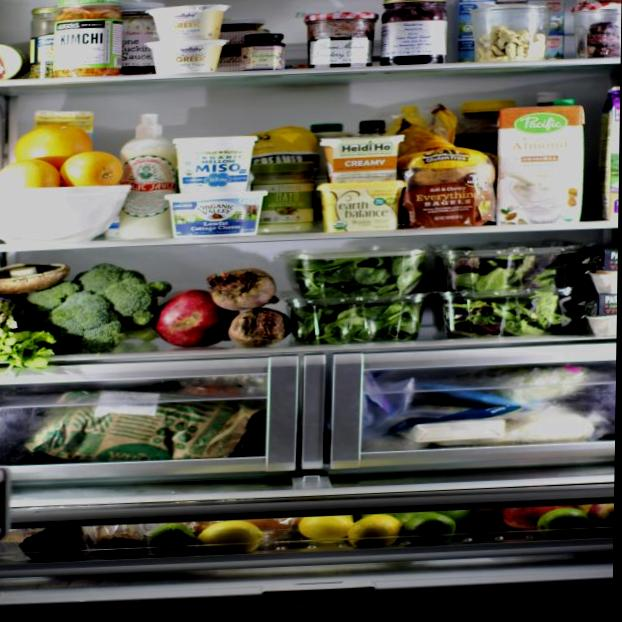apple: (157, 288, 230, 346), (536, 507, 591, 538), (402, 515, 457, 542)
bread: (403, 137, 497, 228)
broccoli: (51, 267, 162, 351)
lemon: (14, 122, 95, 161), (198, 520, 264, 552), (63, 152, 124, 184), (0, 159, 63, 189), (352, 514, 402, 546), (297, 514, 351, 542)
milk: (497, 100, 586, 224)
mushroom: (0, 262, 66, 293)
parsley: (0, 328, 50, 363)
yoghurt: (166, 189, 269, 238), (172, 134, 258, 192), (145, 3, 229, 41), (145, 38, 229, 74)
